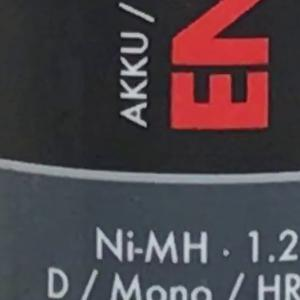NIMH: (87, 222, 216, 270)
